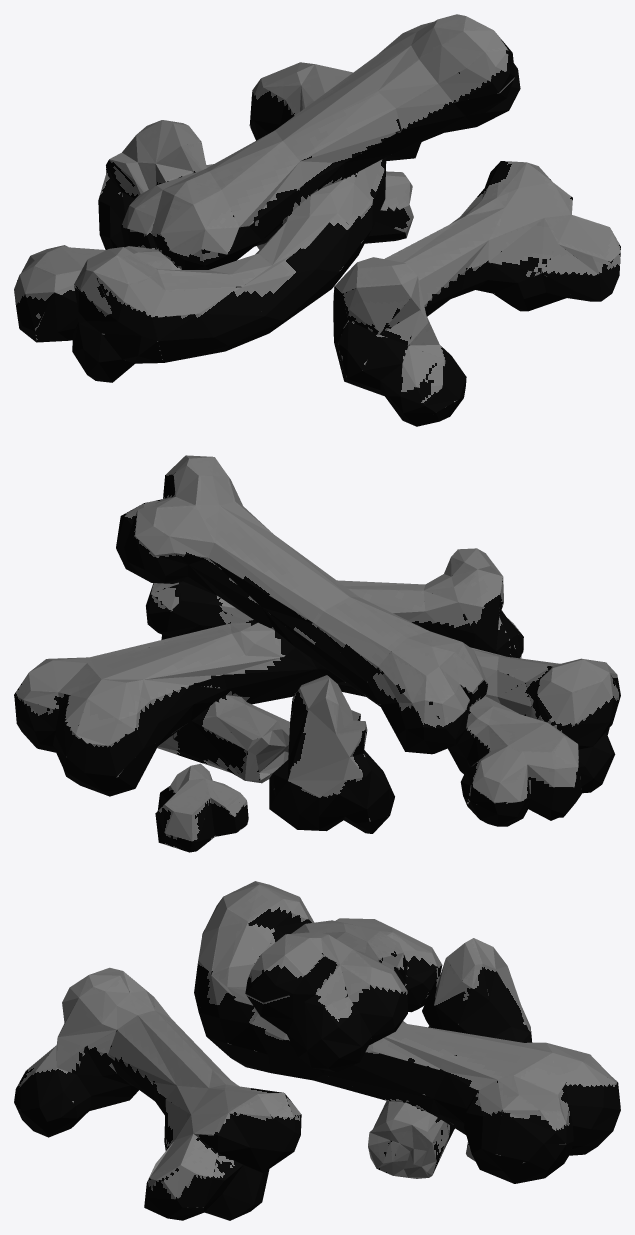
The picture shows the model from 3 angles, top to bottom: view 1: azimuth 30°, elevation 25°; view 2: azimuth 150°, elevation 25°; view 3: azimuth 270°, elevation 25°; orthographic projection. The views are drawn at different scales.
Visible parts, largest first — view 1: OBJ0c6; view 2: OBJ0c6; view 3: OBJ0c6.
Part boxes in pixels (x1,y1,x2,y2): OBJ0c6: (14,14,620,426); OBJ0c6: (14,455,620,852); OBJ0c6: (14,881,620,1220).
Bounding box in the file's own units: 0.3681 × 0.1879 × 0.3746.
Materials: 1 (1 with a texture image).
